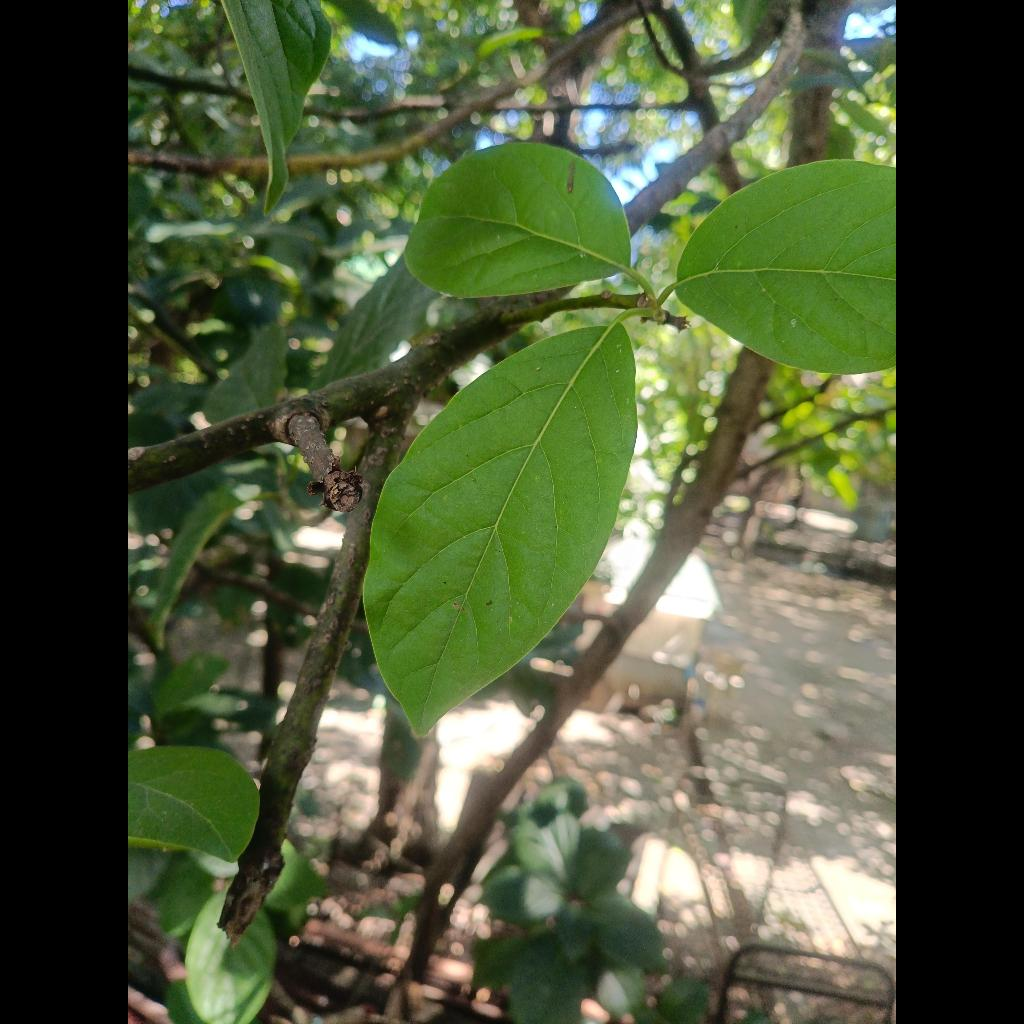hoja_sana: (364, 325, 636, 732)
